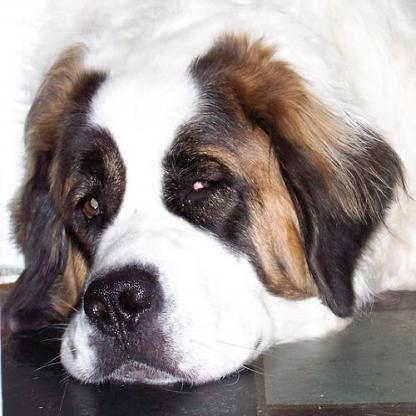Saint_Bernard: (1, 0, 413, 386)
